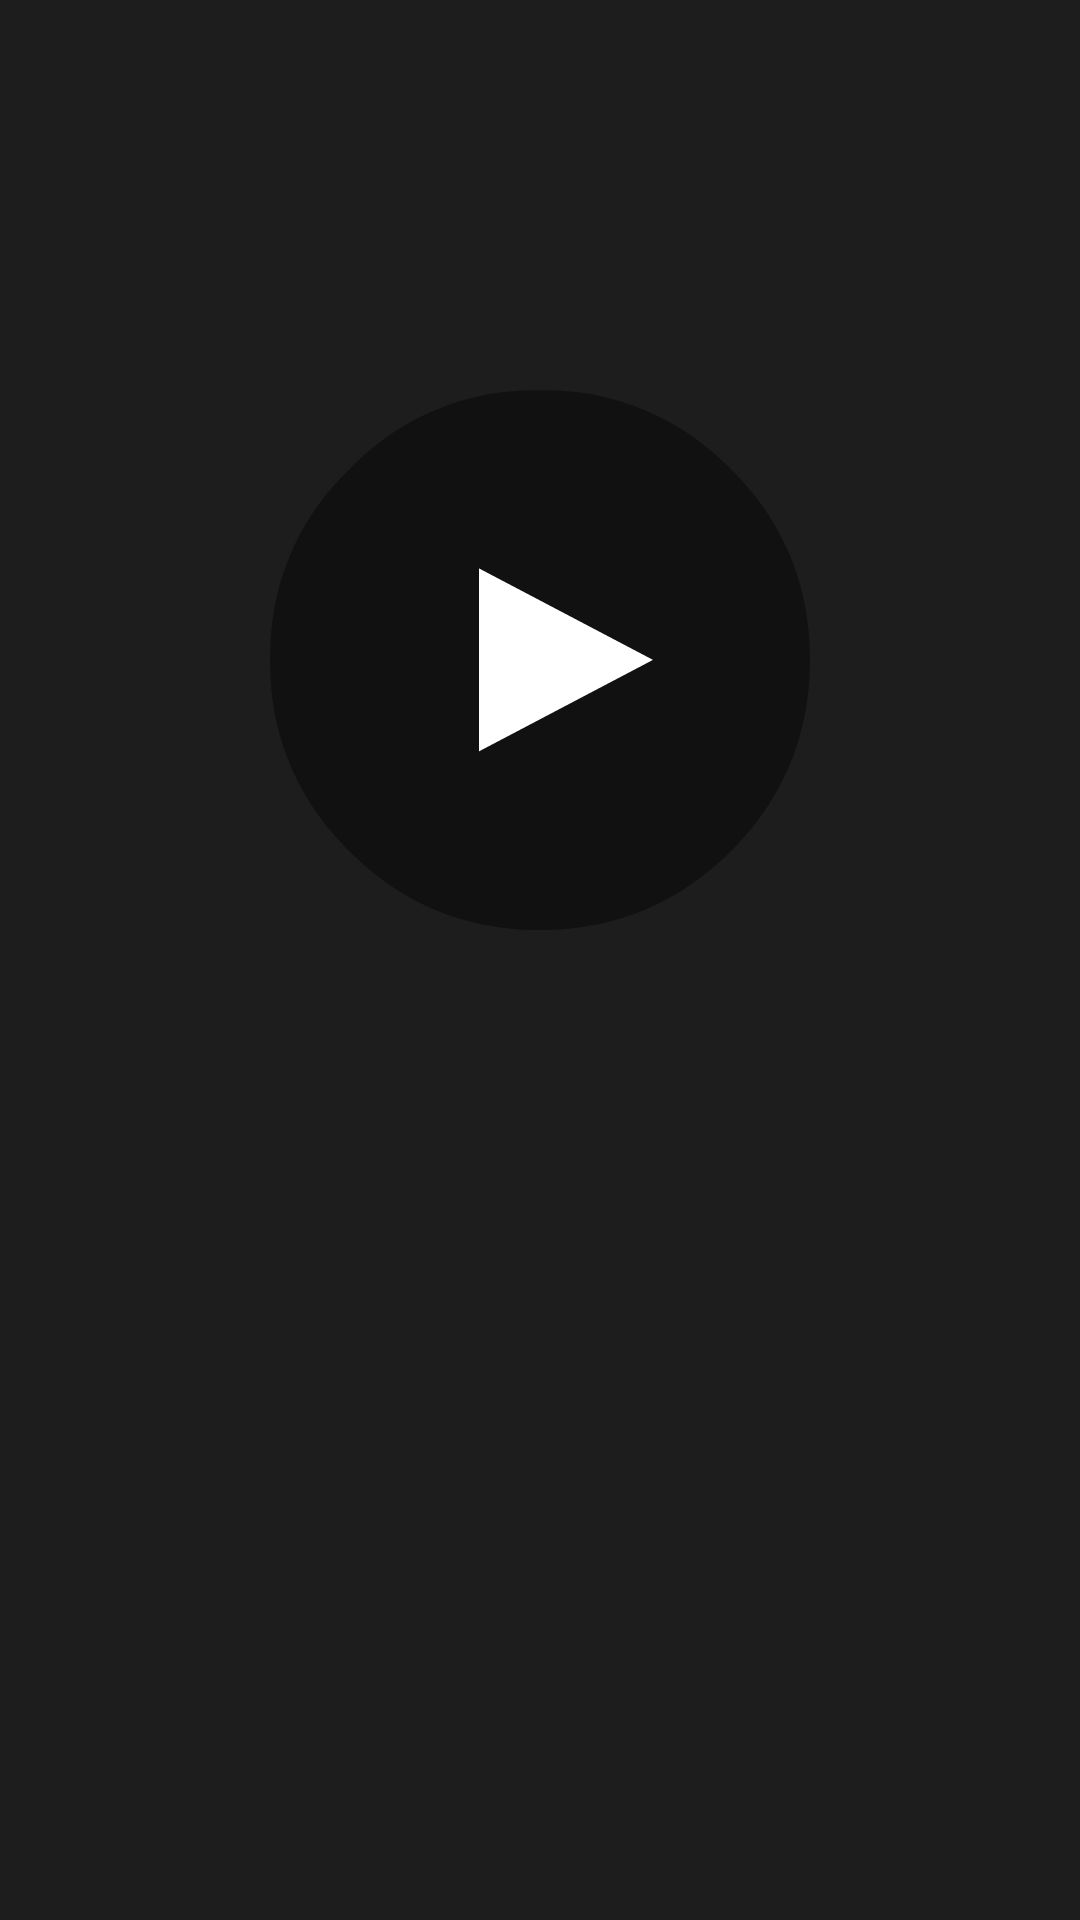

Named icons in this screenshot (1080*1920) and their centers, (x,y):
playbtn: (566,659)
